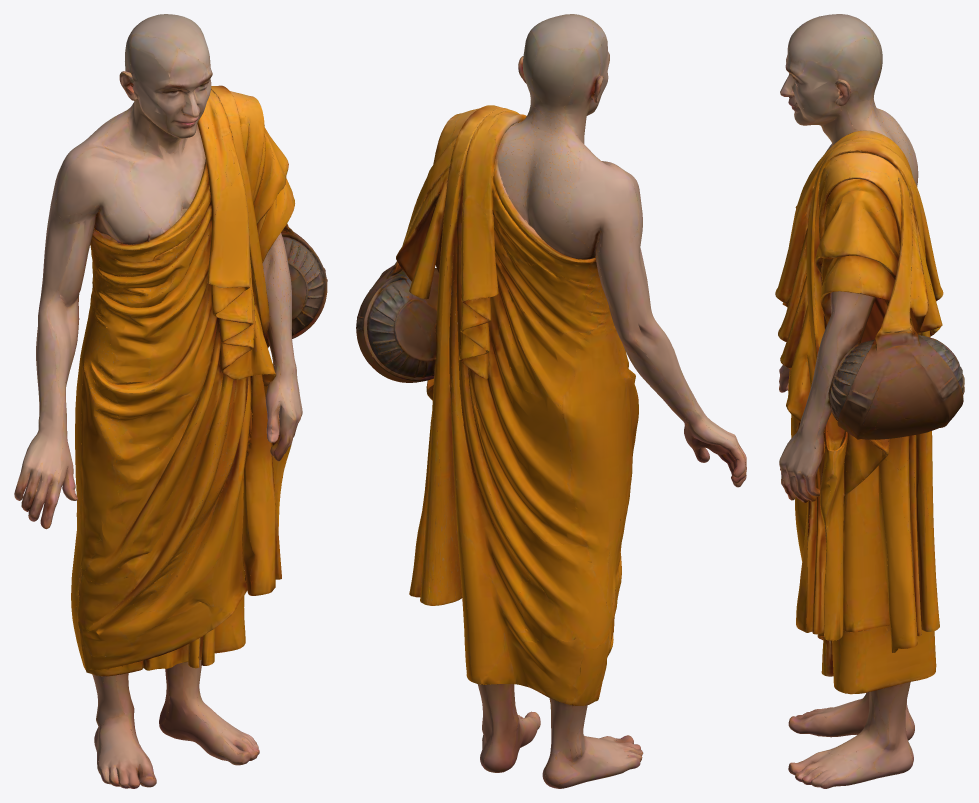
The model's file is mihindu_thero.glb.
The picture shows the model from 3 angles, left to right: view 1: azimuth 30°, elevation 25°; view 2: azimuth 150°, elevation 25°; view 3: azimuth 270°, elevation 25°; orthographic projection.
Visible parts, largest first — view 1: node_0; view 2: node_0; view 3: node_0.
Part boxes in pixels (left/top/right/bottom): node_0: left=14, top=14, right=327, bottom=788; node_0: left=356, top=14, right=746, bottom=788; node_0: left=775, top=14, right=964, bottom=788.
Size of the model in its own units: 0.5585 by 1.17 by 0.2739.
1 material, 1 textured.
